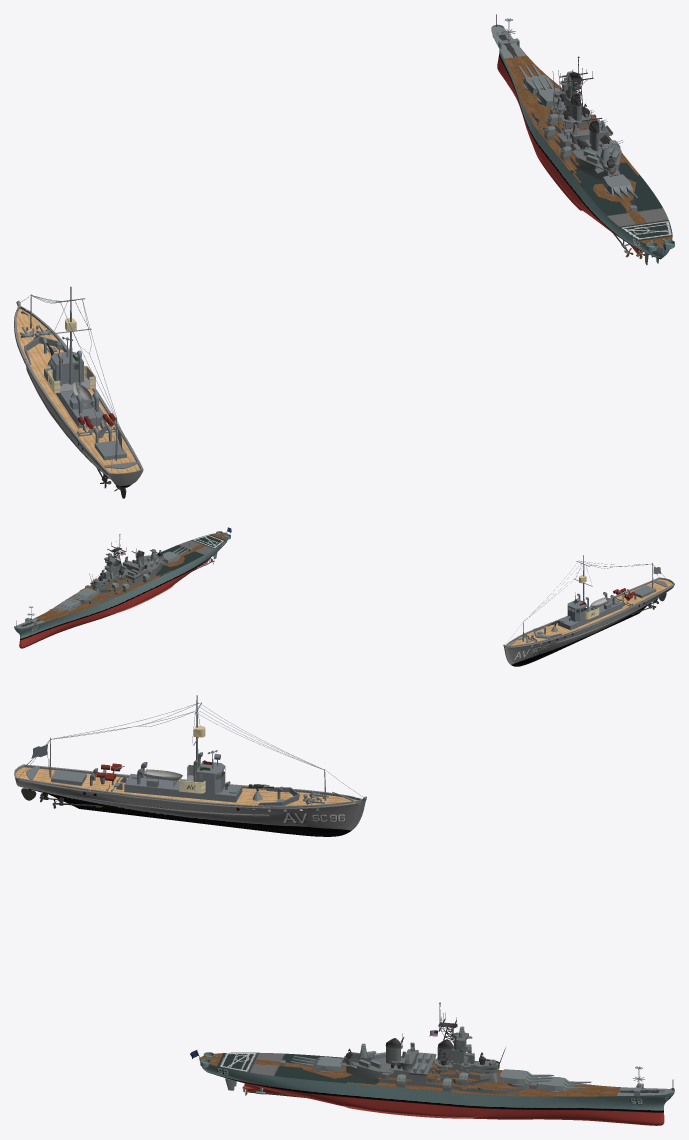
The model's file is 护卫舰.FBX.
The picture shows the model from 3 angles, top to bottom: view 1: azimuth 30°, elevation 25°; view 2: azimuth 150°, elevation 25°; view 3: azimuth 270°, elevation 25°; orthographic projection. The views are drawn at different scales.
Parts seen in each view (by area): view 1: SCcasco21, NCasco18, NCubHel18, NCastillo18, NCubMad18; view 2: SCcasco21, NCasco18, NCastillo18, NCubHel18, NCubMad18; view 3: SCcasco21, NCasco18, NCastillo18, NCubHel18, NCubMad18.
Boxes of the visible parts, x1,y1,x2,y2 form: SCcasco21: (14,286,143,498); NCasco18: (492,32,674,259); NCubHel18: (569,162,672,240); NCastillo18: (531,77,621,180); NCubMad18: (505,55,672,247); SCcasco21: (503,555,674,666); NCasco18: (14,531,230,648); NCastillo18: (76,554,165,604); NCubHel18: (155,534,224,576); NCubMad18: (35,532,227,621); SCcasco21: (14,695,366,836); NCasco18: (199,1052,674,1125); NCastillo18: (340,1032,537,1094); NCubHel18: (217,1052,378,1084); NCubMad18: (199,1053,620,1096).
Bounding box in the file's own units: 50.35 × 42.13 × 9.06.
22 materials, 9 textured.
